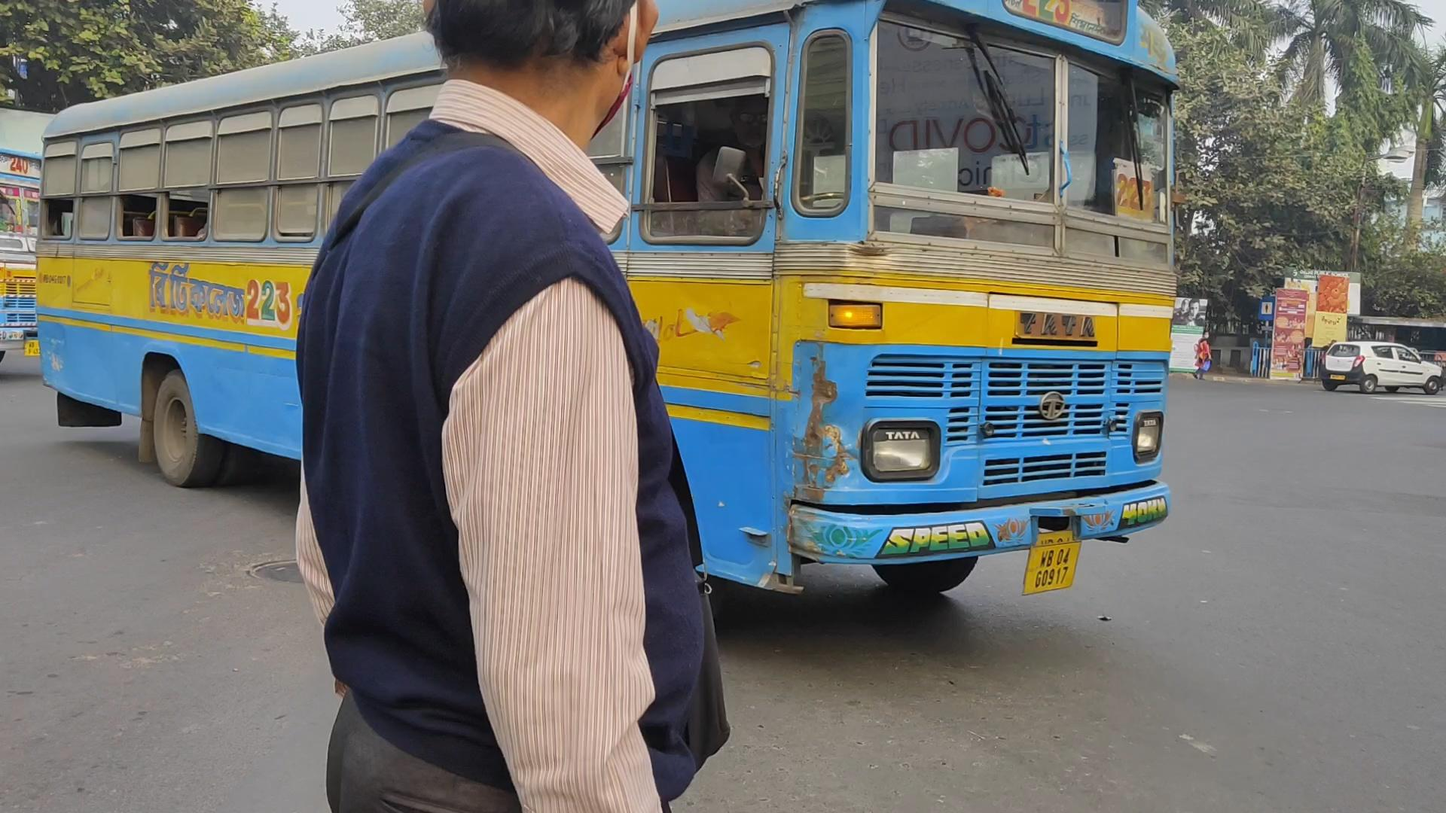Bus: (33, 2, 1185, 617)
car: (1318, 340, 1445, 394)
